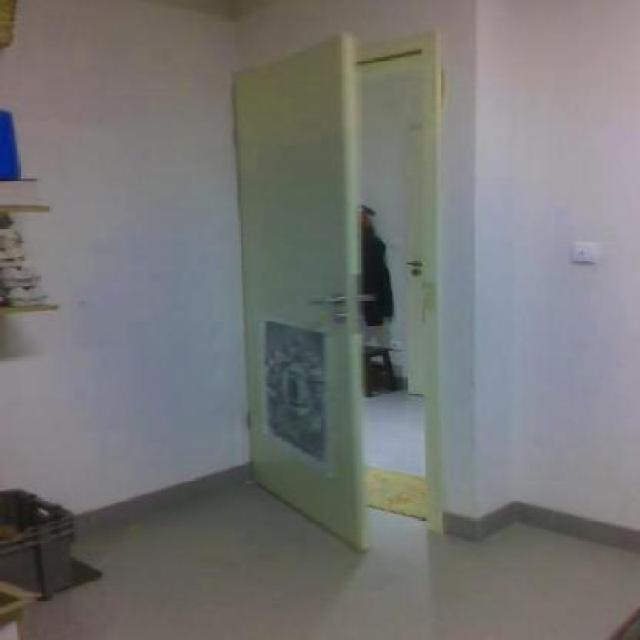door_handle: (292, 287, 354, 316)
